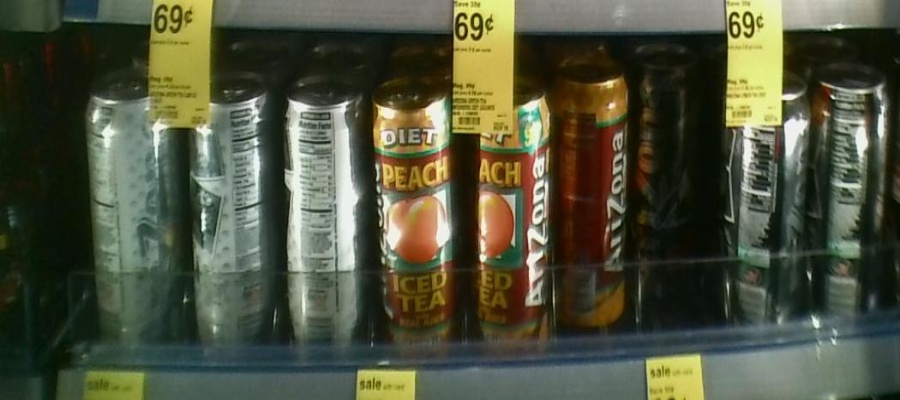bottle: (81, 53, 185, 355), (368, 66, 456, 361), (187, 73, 278, 355), (460, 77, 550, 358), (721, 69, 812, 343), (280, 69, 363, 356), (815, 57, 889, 334), (555, 66, 626, 328), (633, 42, 680, 240)
